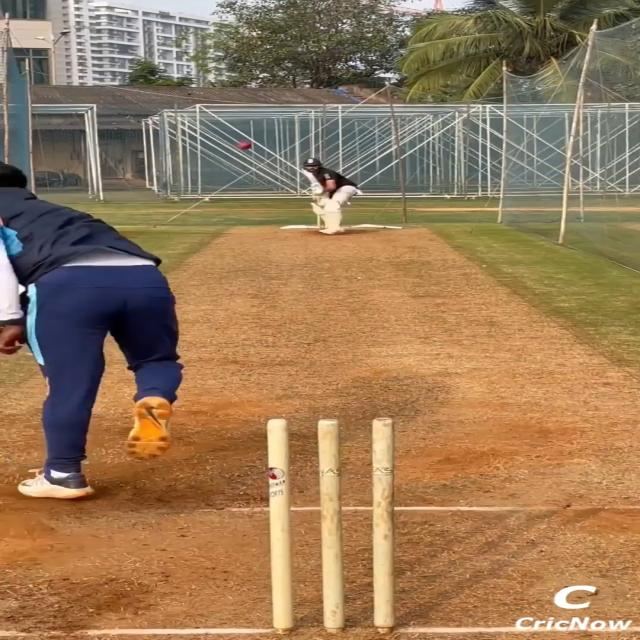ball: (237, 142, 252, 150)
stump: (264, 416, 398, 636)
